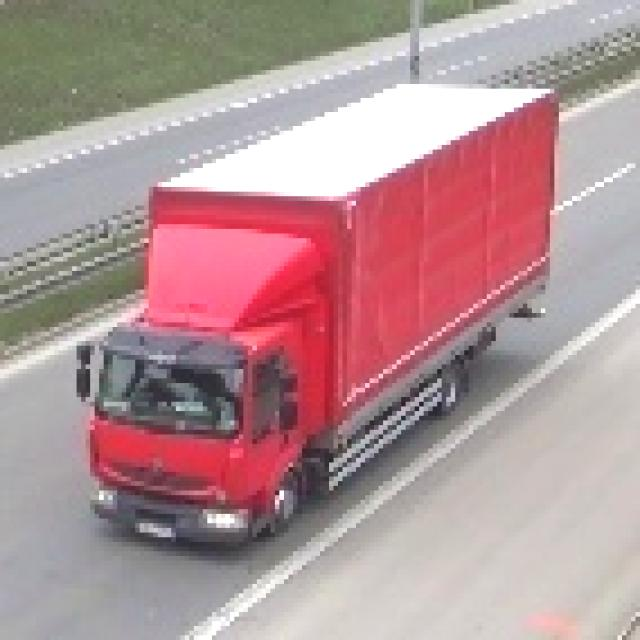truck: (73, 81, 551, 548)
